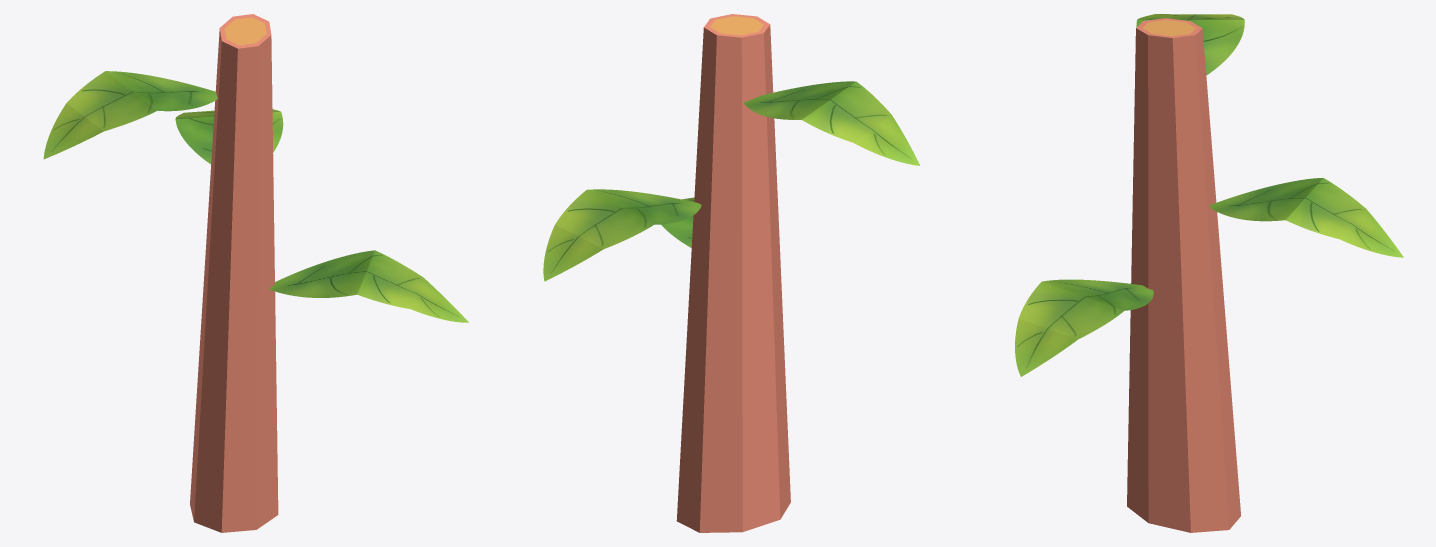
The model's file is cocoa_small.fbx.
3 views of the same model, side by side, from view 1: azimuth 30°, elevation 25°; view 2: azimuth 150°, elevation 25°; view 3: azimuth 270°, elevation 25° (orthographic).
Visible parts, largest first — view 1: cocoa.002; view 2: cocoa.002; view 3: cocoa.002.
Part boxes in pixels (<box>): cocoa.002: <box>43,14,468,532</box>; cocoa.002: <box>543,14,920,532</box>; cocoa.002: <box>1015,14,1403,532</box>.
Size of the model in its own units: 108 by 135 by 112.
